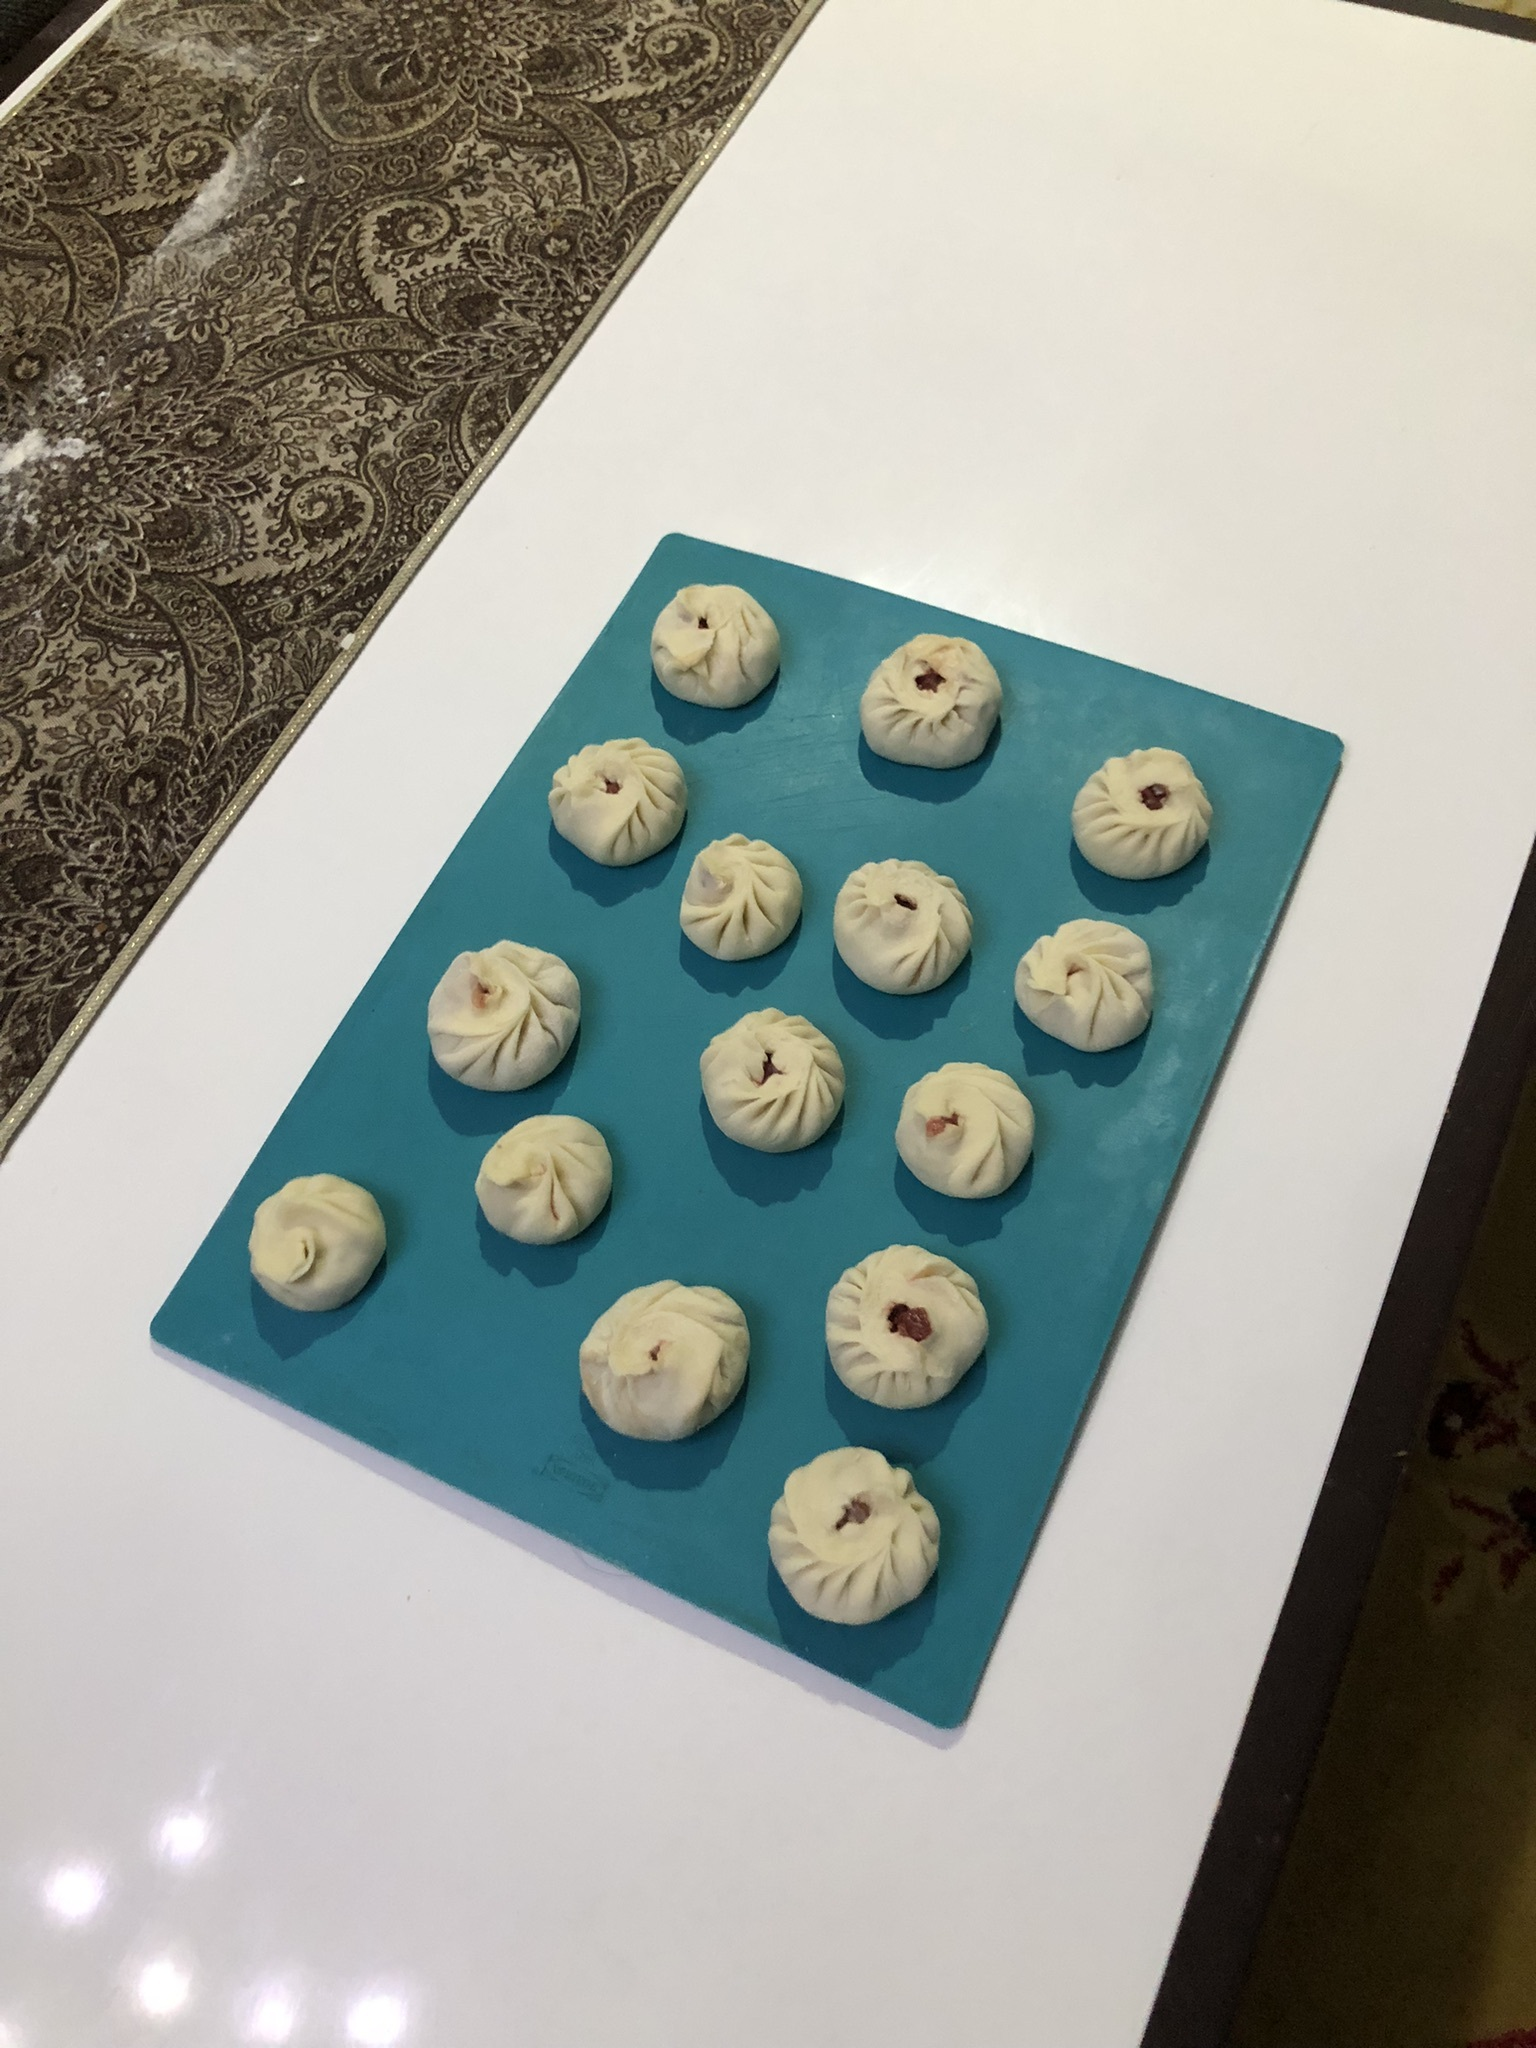buuz: (762, 1438, 962, 1634), (561, 1271, 765, 1455), (816, 1238, 1000, 1429), (419, 927, 591, 1103), (686, 997, 855, 1163), (242, 1164, 403, 1326), (887, 1056, 1049, 1213), (1057, 739, 1225, 889), (461, 1109, 623, 1264), (850, 626, 1008, 780), (1007, 910, 1165, 1061), (537, 732, 694, 877), (829, 855, 981, 1003), (639, 576, 787, 718), (671, 826, 812, 974)
